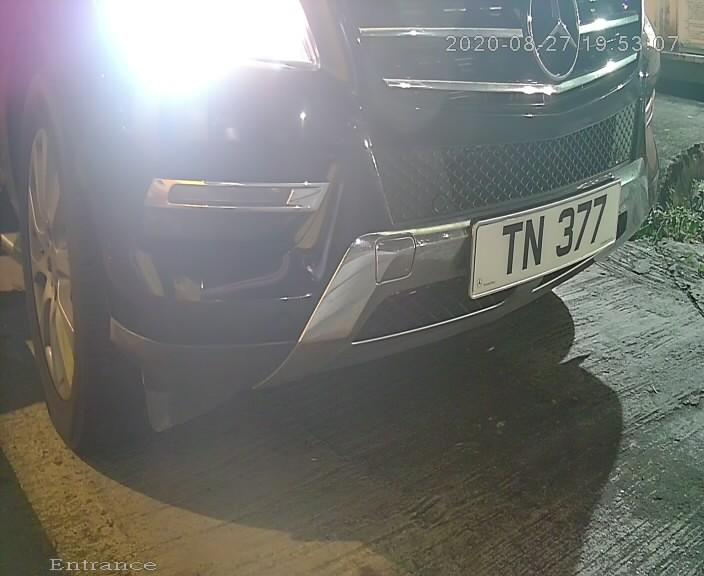License Plate: (453, 156, 640, 312)
